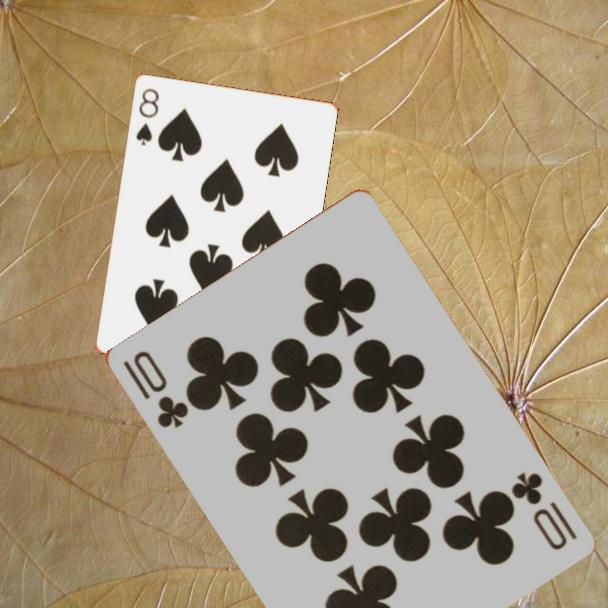c10: (118, 346, 191, 432), (507, 468, 580, 553)
s08: (132, 84, 162, 148)
